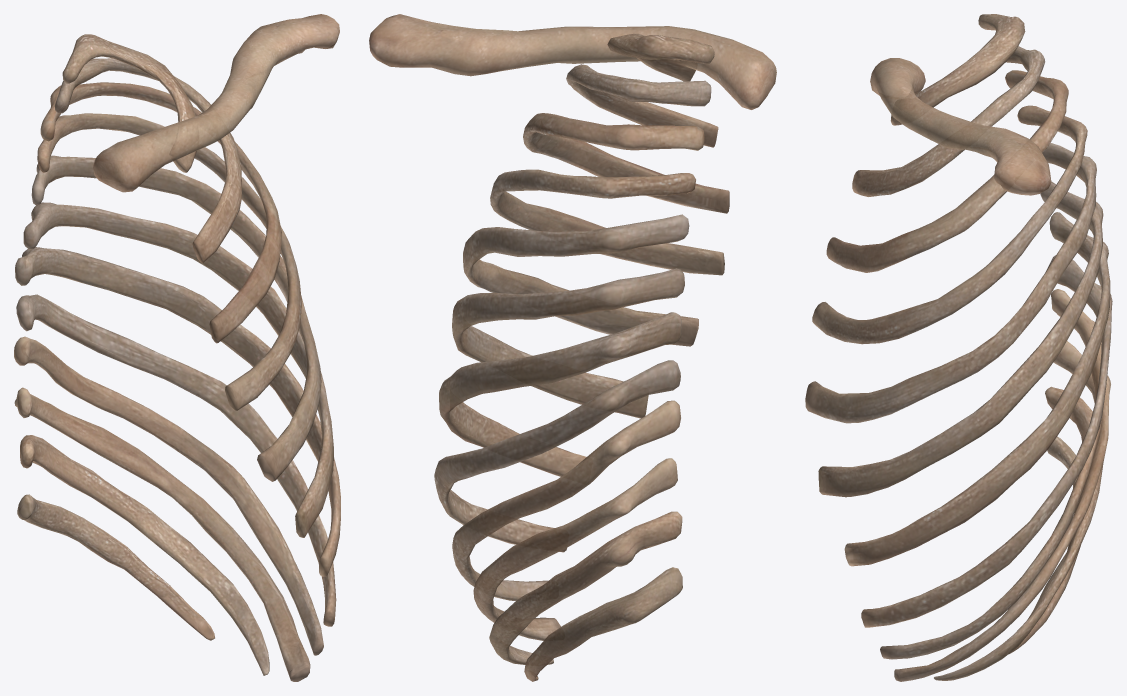
The model's file is Legs.111.obj.
The picture shows the model from 3 angles, left to right: view 1: azimuth 30°, elevation 25°; view 2: azimuth 150°, elevation 25°; view 3: azimuth 270°, elevation 25°; orthographic projection. The views are drawn at different scales.
Parts seen in each view (by area): view 1: Legs.111_Arms.111; view 2: Legs.111_Arms.111; view 3: Legs.111_Arms.111.
Part boxes in pixels (left/top/right/bottom): Legs.111_Arms.111: left=14, top=14, right=340, bottom=681; Legs.111_Arms.111: left=369, top=14, right=776, bottom=681; Legs.111_Arms.111: left=805, top=14, right=1112, bottom=681.
Size of the model in its own units: 0.8093 by 1.65 by 0.7672.
